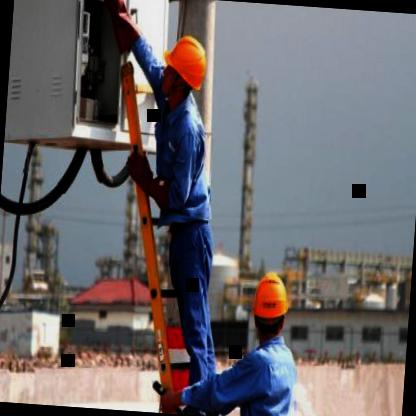helmet: (156, 26, 212, 112), (246, 268, 294, 344)
